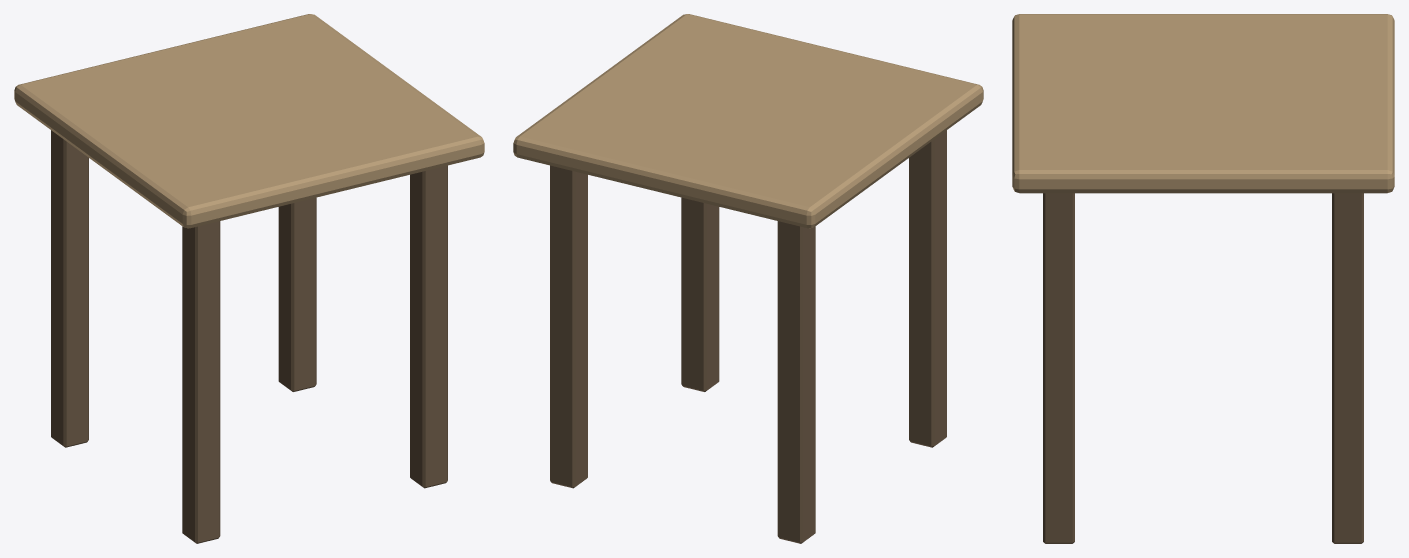
The model's file is table_side.glb.
The picture shows the model from 3 angles, left to right: view 1: azimuth 30°, elevation 25°; view 2: azimuth 150°, elevation 25°; view 3: azimuth 270°, elevation 25°; orthographic projection. The views are drawn at different scales.
Parts seen in each view (by area): view 1: table_side; view 2: table_side; view 3: table_side.
Part boxes in pixels (x1=…): table_side: x1=14, y1=14, x2=484, y2=543; table_side: x1=513, y1=14, x2=983, y2=543; table_side: x1=1012, y1=14, x2=1394, y2=543.
Size of the model in its own units: 0.45 by 0.5 by 0.45.
